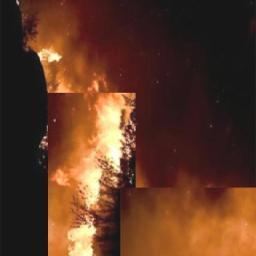Low smoke: (141, 107, 256, 256), (62, 1, 167, 87)
Medium fire: (72, 87, 134, 256)
